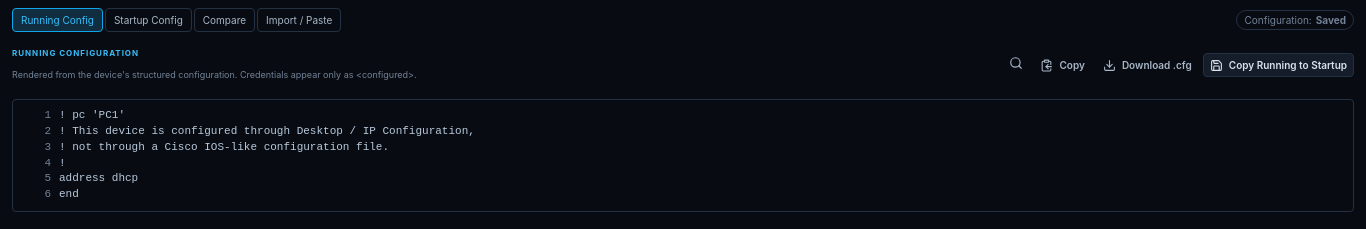
device configuration workspace › explains that a host is configured elsewhere
Expected: the navigation bar named "Configuration sections" is shown, x1=12 y1=8 x2=341 y2=32
Expected: the element named "Running configuration" shows "Desktop / IP Configuration", x1=59 y1=125 x2=475 y2=137
Click the tab "Import / Paste" at (299, 20), box x1=257 y1=8 x2=341 y2=32
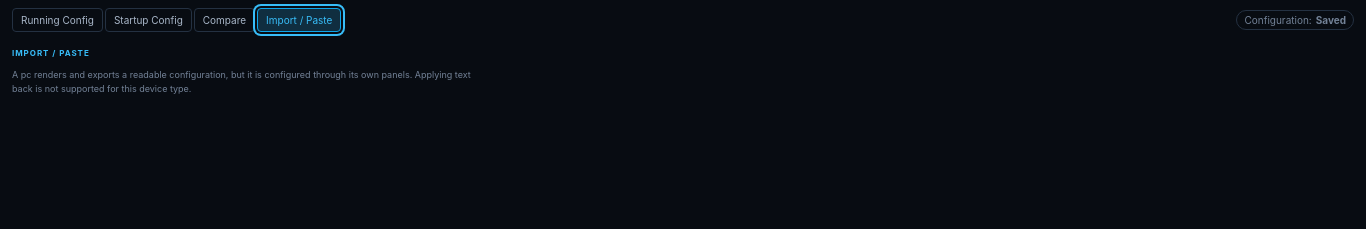
Now the text "configured through its own" is shown, box x1=12 y1=69 x2=471 y2=94
